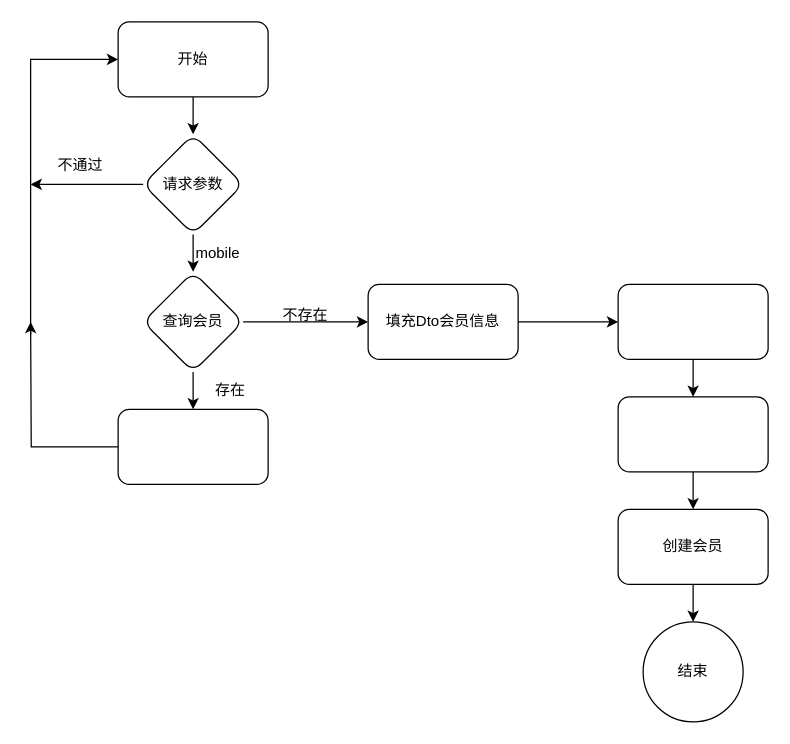
The diagram is 790 pixels wide and 744 high, and some of its shapes have lost their labels. The shapes that lost their labels are listed below. From the top down, each one's box as (x1, y1, x2, y2) in pixels, then its label:
(617, 283, 768, 359): 加锁
(117, 408, 268, 484): 更新信息
(617, 396, 768, 472): 构建会员信息po
